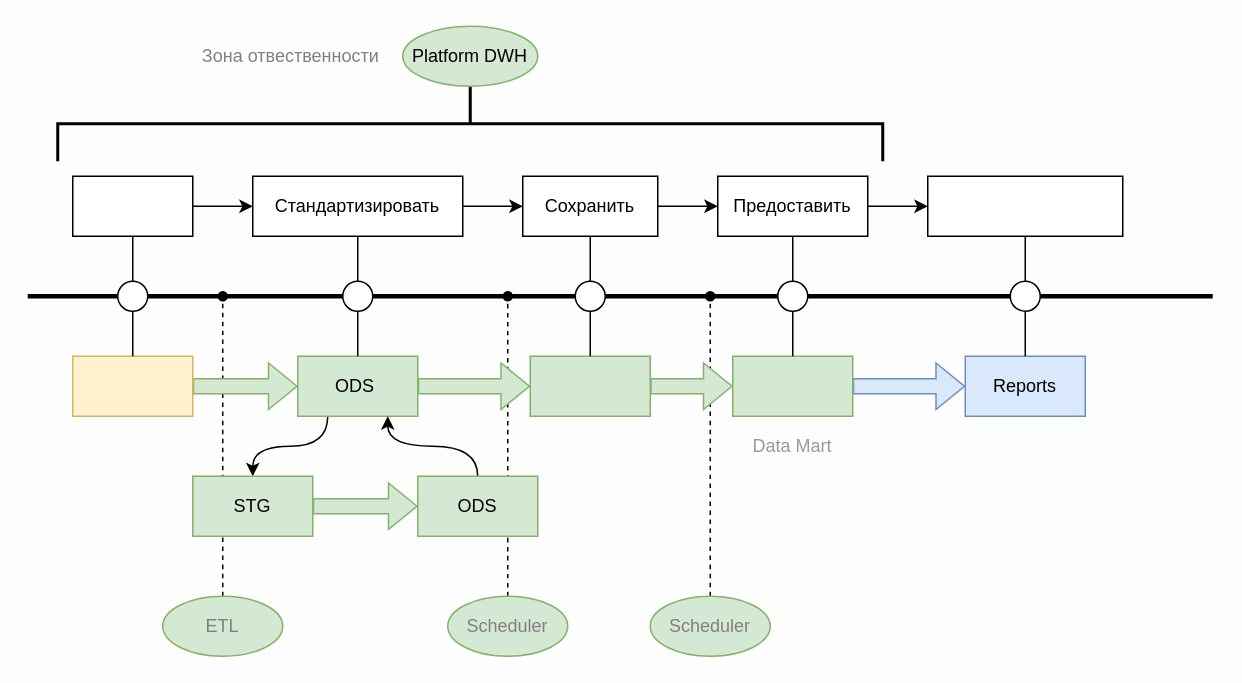
The diagram is 1242 pixels wide and 683 high, and some of its shapes have lost their labels. The centre of each missing label's shape, as x and y in pixels:
CDM: (x=792, y=385)
DDS: (x=589, y=385)
RAW: (x=132, y=385)
Проанализировать: (x=1024, y=205)
Собрать: (x=132, y=205)
